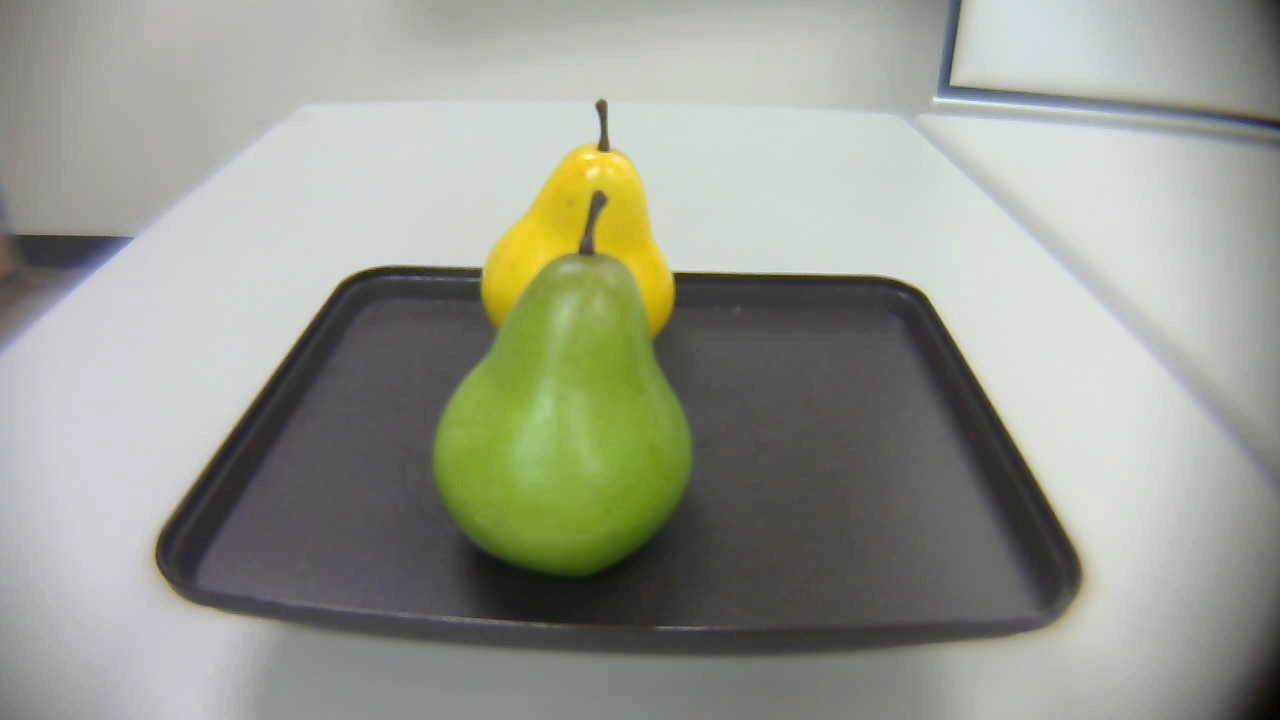green pear: (412, 188, 707, 577)
yellow pear: (452, 92, 678, 368)
